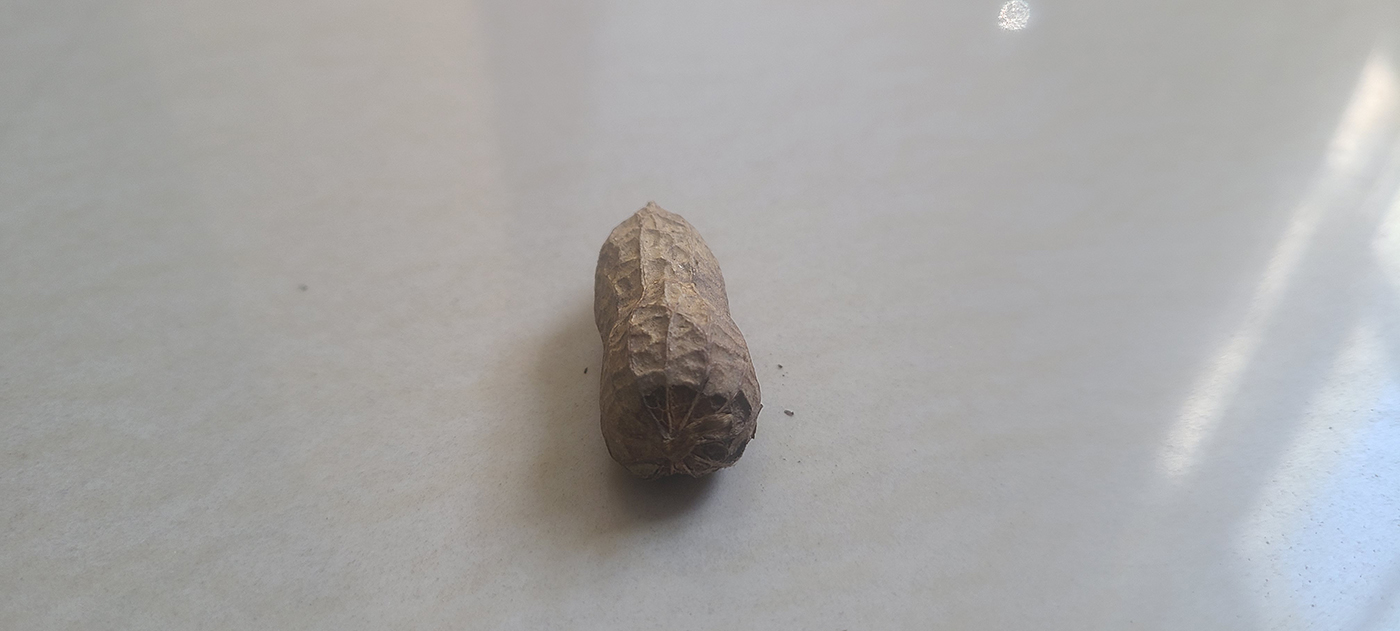l: (594, 202, 756, 483)
